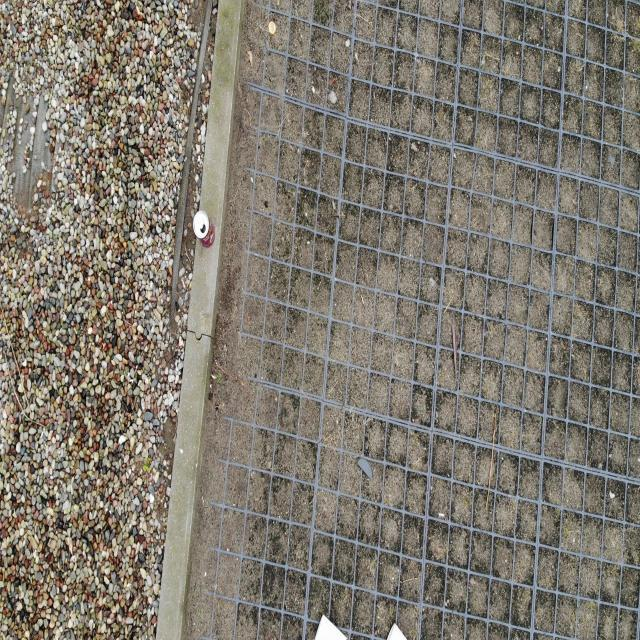rubbish: (314, 614, 347, 639), (193, 212, 214, 247), (387, 623, 408, 640), (269, 22, 276, 34)
